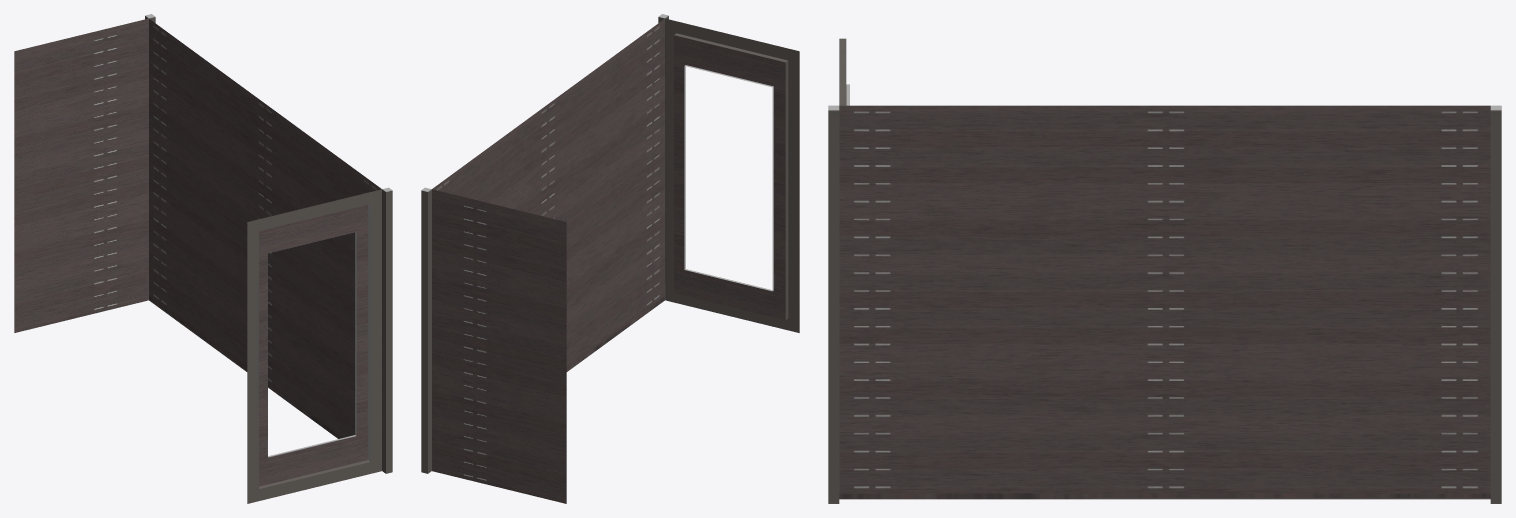
The model's file is sm_cb01_module07.glb.
The picture shows the model from 3 angles, left to right: view 1: azimuth 30°, elevation 25°; view 2: azimuth 150°, elevation 25°; view 3: azimuth 270°, elevation 25°; orthographic projection. The views are drawn at different scales.
Parts seen in each view (by area): view 1: sm_cb01_module07; view 2: sm_cb01_module07; view 3: sm_cb01_module07.
Boxes of the visible parts, x1,y1,x2,y2 form: sm_cb01_module07: (14, 14, 392, 503); sm_cb01_module07: (421, 14, 799, 503); sm_cb01_module07: (828, 38, 1501, 503).
Size of the model in its own units: 3.15 by 6 by 9.3.
2 materials, 2 textured.
